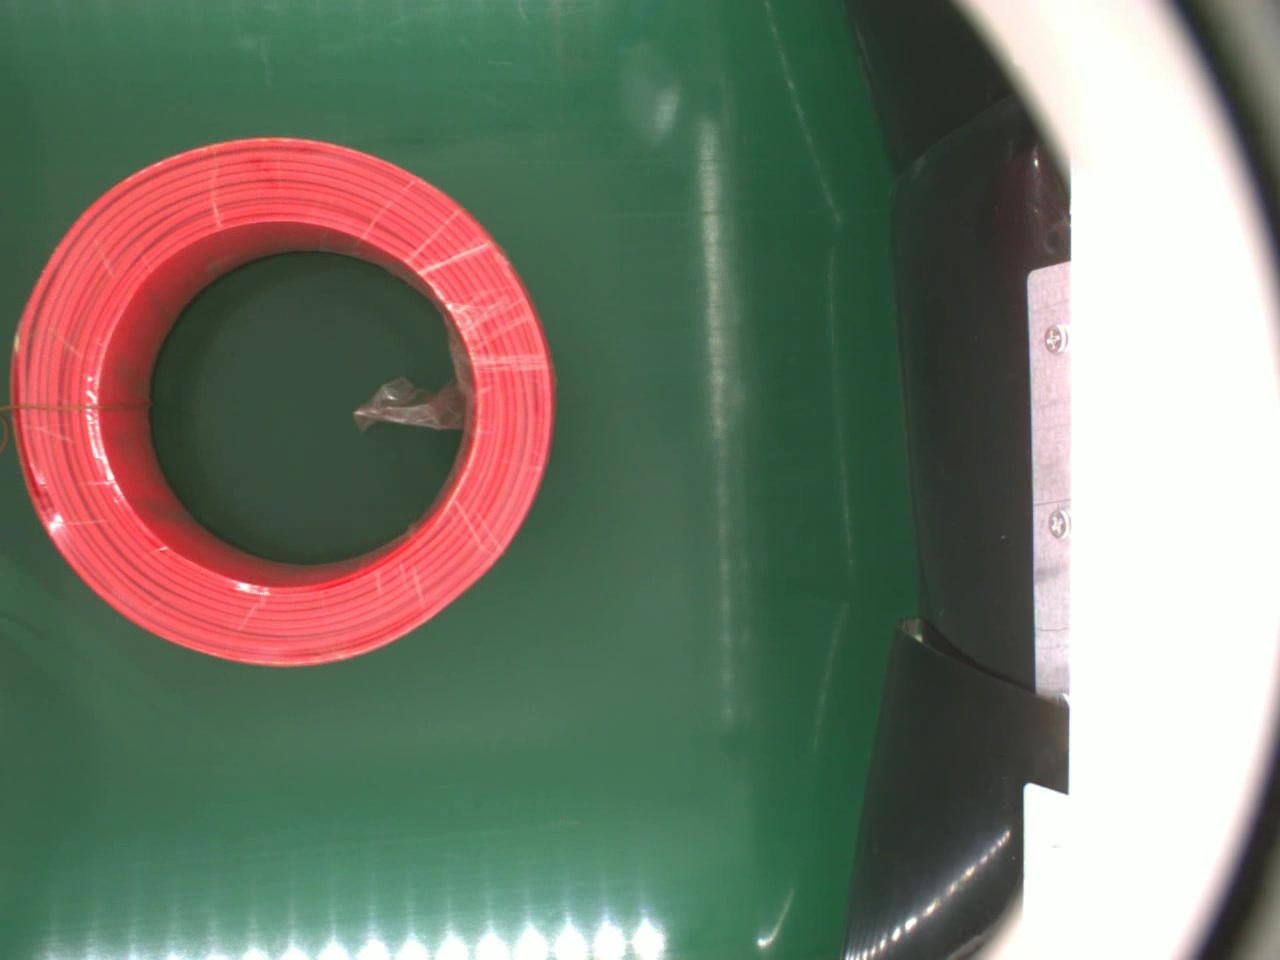red: (9, 134, 556, 671)
